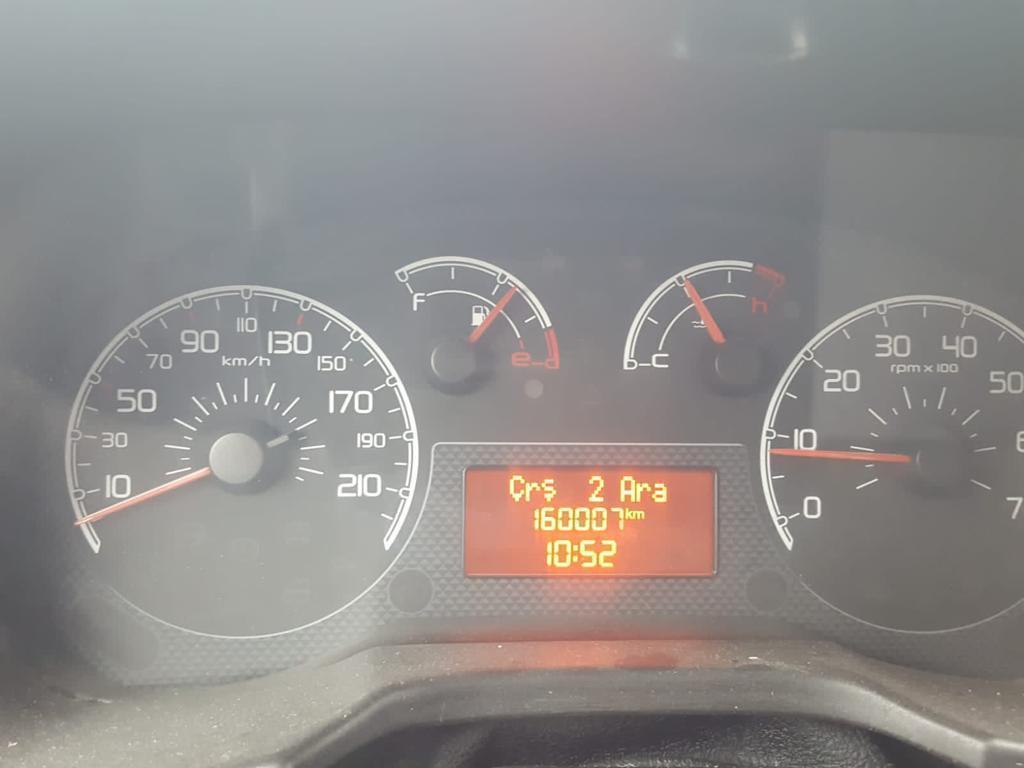0: (553, 538, 571, 568), (591, 506, 608, 531), (556, 506, 573, 531), (574, 505, 590, 531)
1: (545, 539, 552, 566), (533, 507, 540, 530)
2: (599, 538, 617, 568), (588, 474, 605, 503)
5: (580, 539, 597, 566)
6: (541, 506, 555, 531)
7: (609, 507, 625, 531)
X: (619, 474, 635, 502), (509, 474, 524, 502), (541, 477, 557, 502), (652, 481, 668, 503), (636, 481, 651, 502), (525, 481, 540, 502), (572, 542, 579, 564), (632, 510, 645, 520), (625, 506, 632, 520)
odometer: (458, 462, 724, 581)
